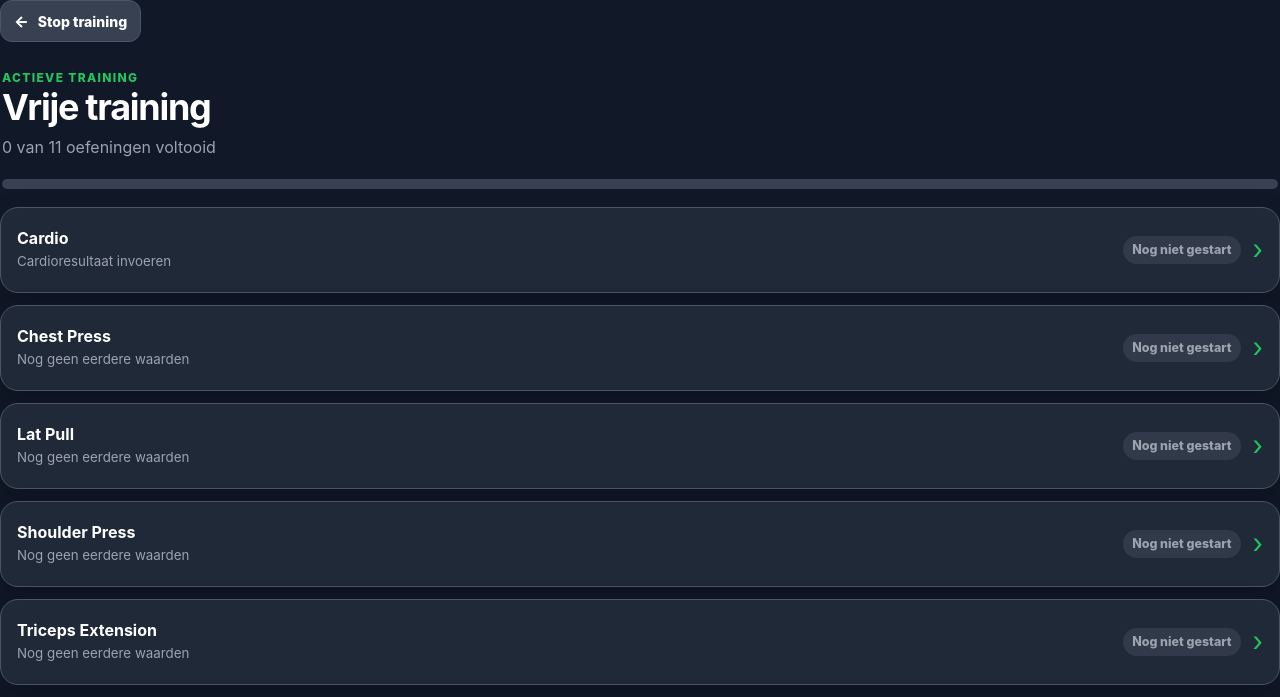
actieve oefening tijdens autosave › koppelt maximaal één rusttimer aan de gekozen set en ondersteunt stoppen en herstarten
What coordinates should you click on to do the following:
click the button "Chest Press Nog geen eerdere waarden Nog niet gestart ›"
I would click on:
 (64, 336)
Its box is [1,306,1279,390].
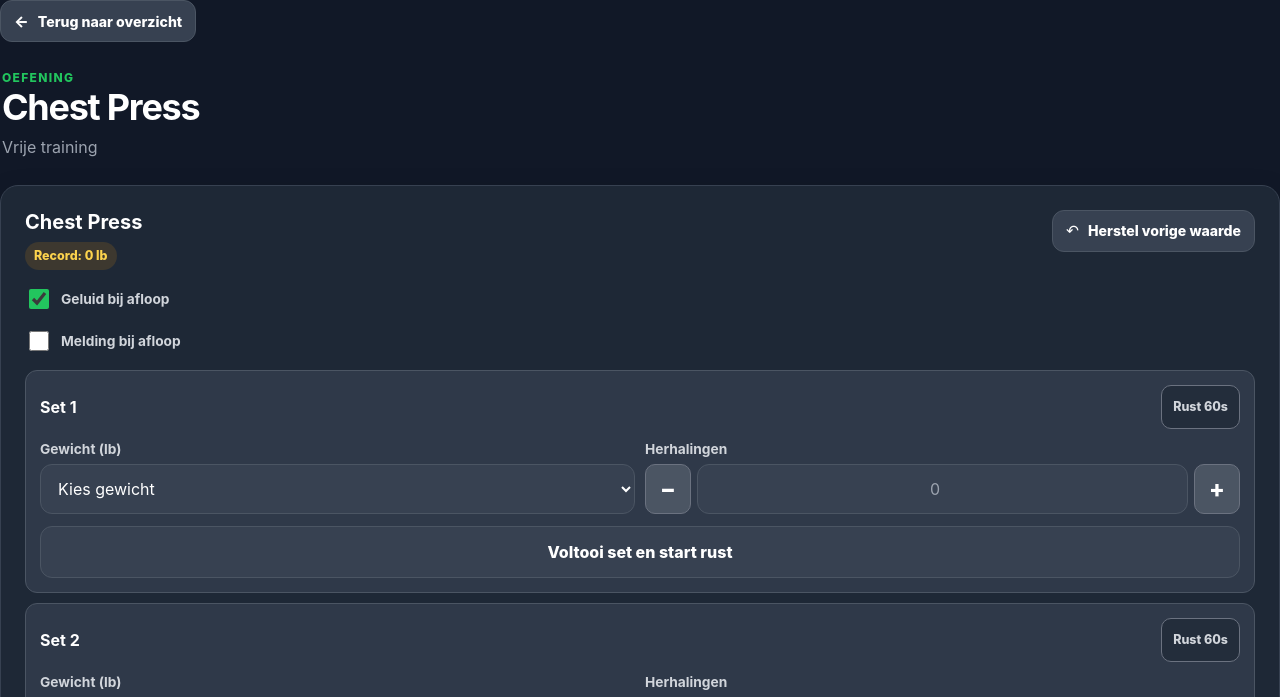
What coordinates should you click on to do the following:
click the button with aria-label "Start rusttimer van set 1"
I would click on:
 (1201, 407)
Its box is [1161,385,1240,429].
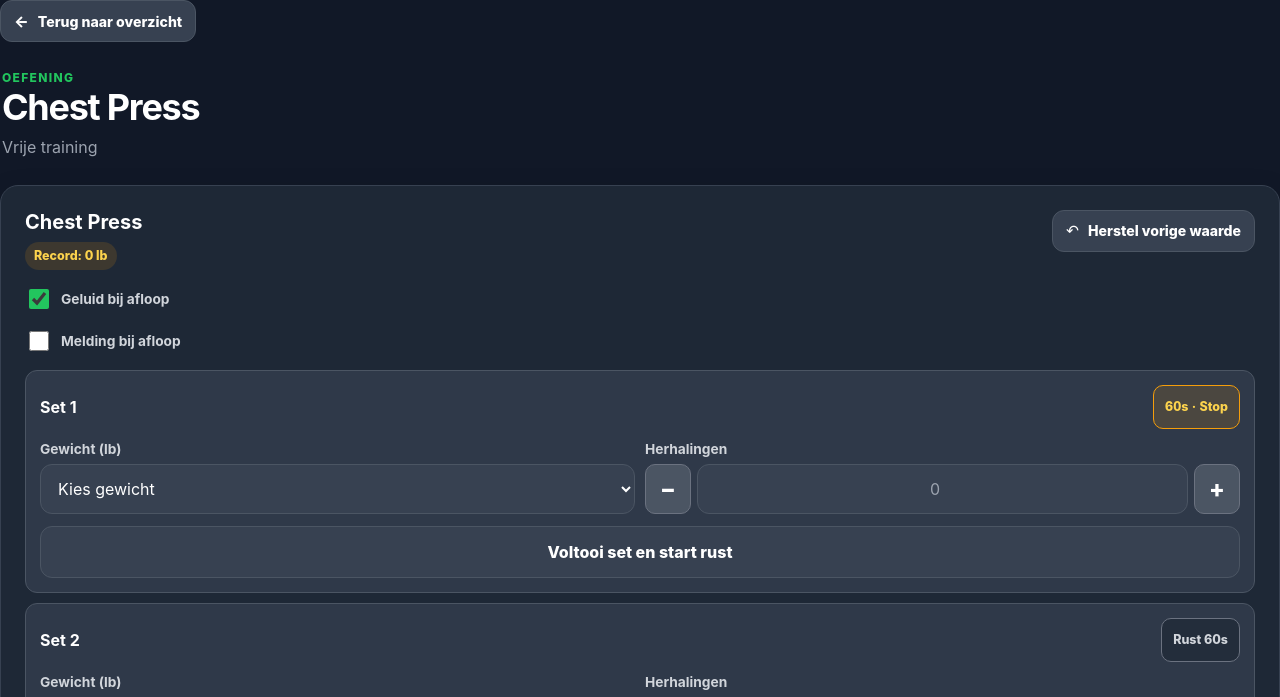
Expected: the button with aria-label "Stop rusttimer van set 1" shows "60s", [1153,385,1240,429]
Expected: the button with aria-label "Start rusttimer van set 2" reads "Rust 60s"
What coordinates should you click on to do the following:
click the button with aria-label "Start rusttimer van set 2"
I would click on:
 (1201, 640)
Its box is [1161,618,1240,662].
Wait 60000 ms
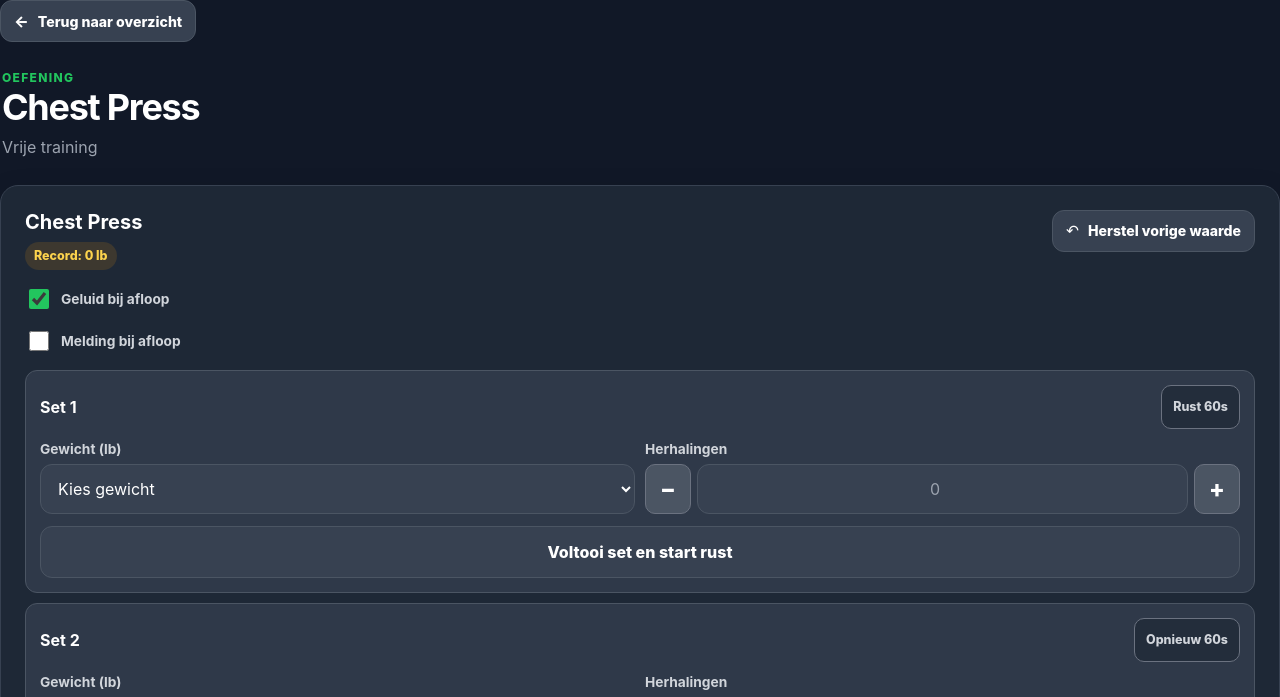
Expected: the button named "Stop rusttimer van set 2" shows "60s"
Expected: the button with aria-label "Start rusttimer van set 2" reads "Opnieuw 60s"
What coordinates should you click on to do the following:
click the button with aria-label "Start rusttimer van set 2"
I would click on:
 (1187, 640)
Its box is [1134,618,1240,662].
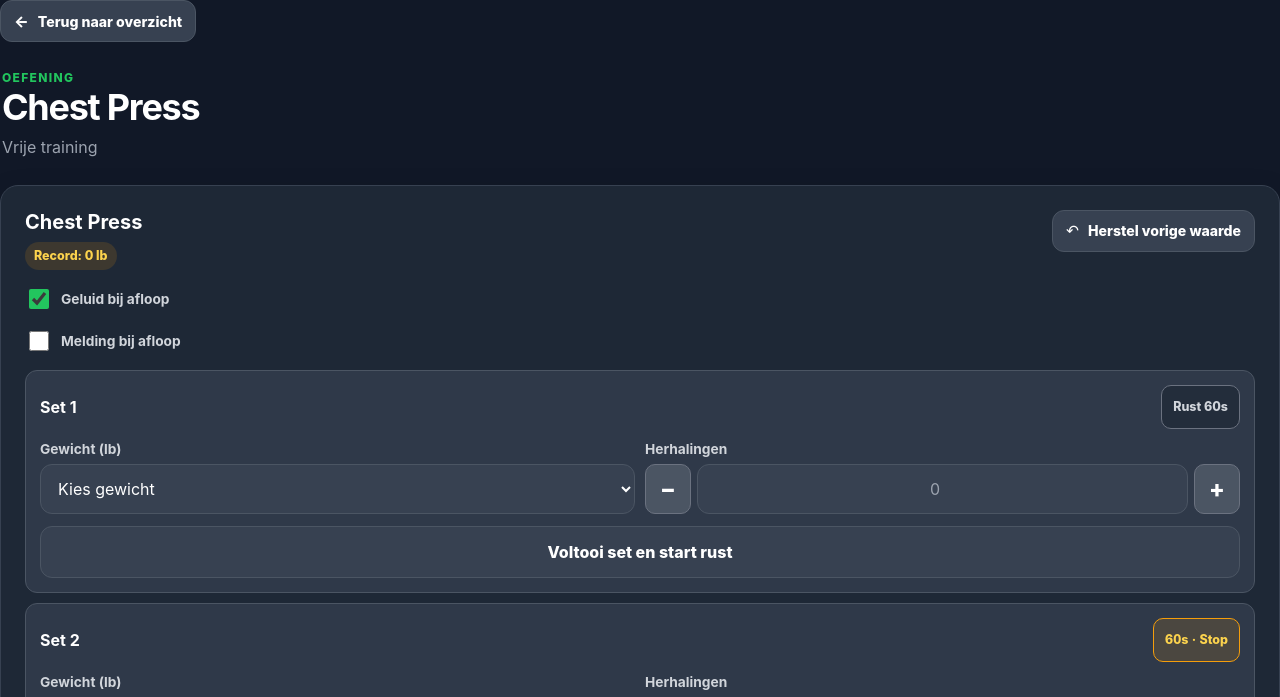
What coordinates should you click on to do the following:
click the button with aria-label "Stop rusttimer van set 2"
I would click on:
 (1197, 640)
Its box is [1153,618,1240,662].
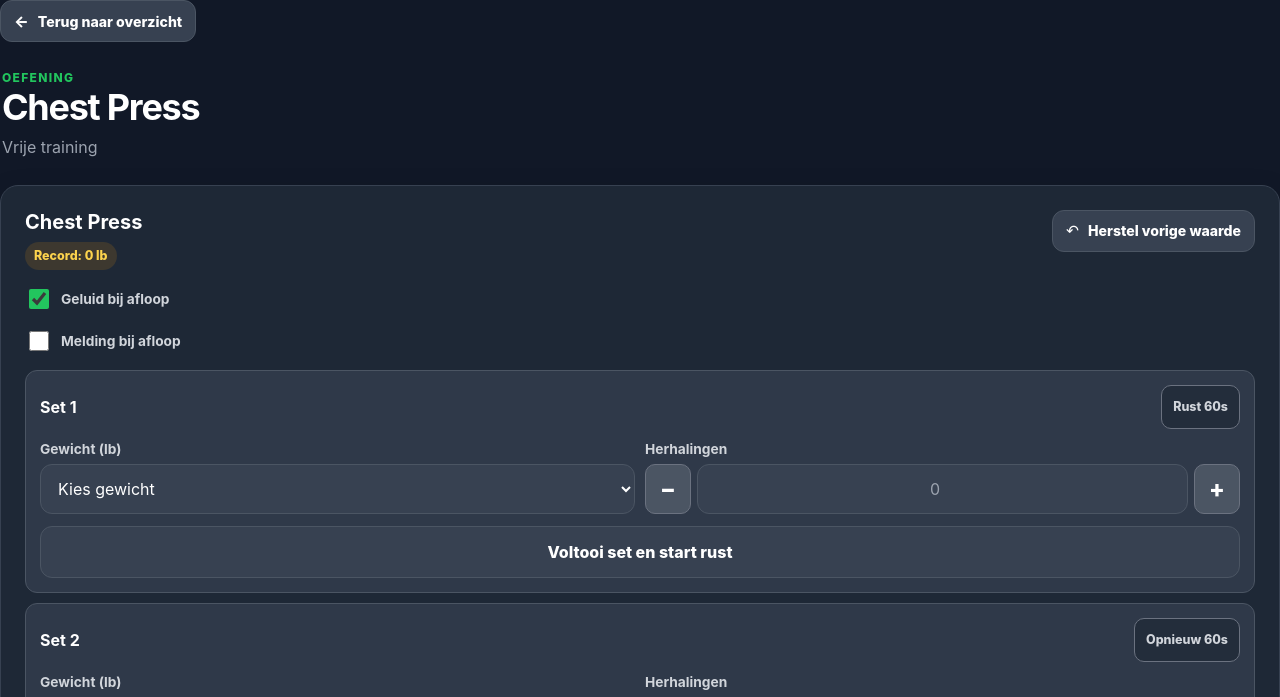
Expected: the button with aria-label "Start rusttimer van set 2" reads "Opnieuw 60s", [1134,618,1240,662]
